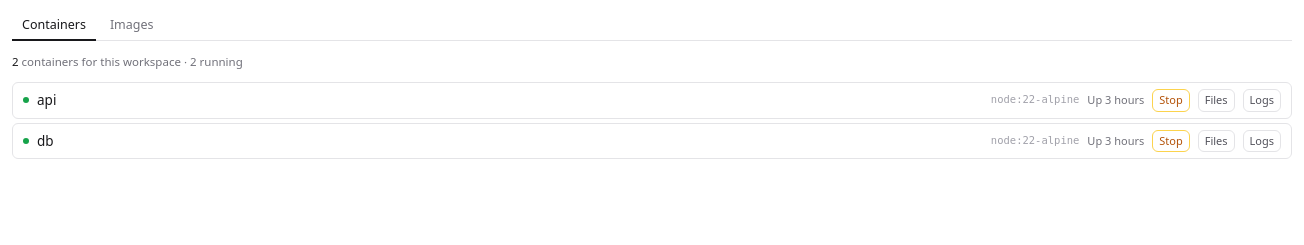
Test: TASK-1896 — Logs and Files are one pane, and it closes › AC-2 — clicking the open pane's own button closes it, and reads nothing
Click the button with test id "docker-logs-api" at (1262, 100), box [1242, 89, 1281, 112]
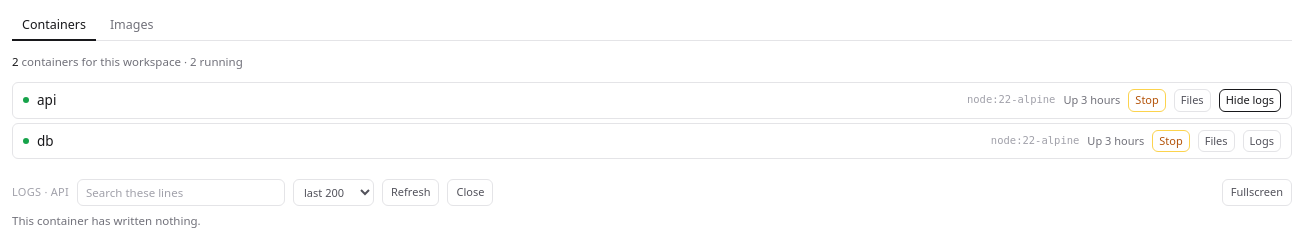
Click the button with test id "docker-logs-api" at (1250, 100), box [1219, 89, 1281, 112]
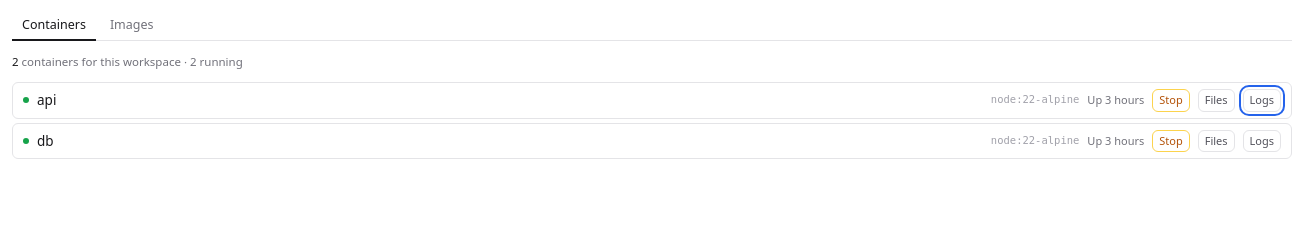
expect the element with test id "docker-logs-pane" is gone: met
